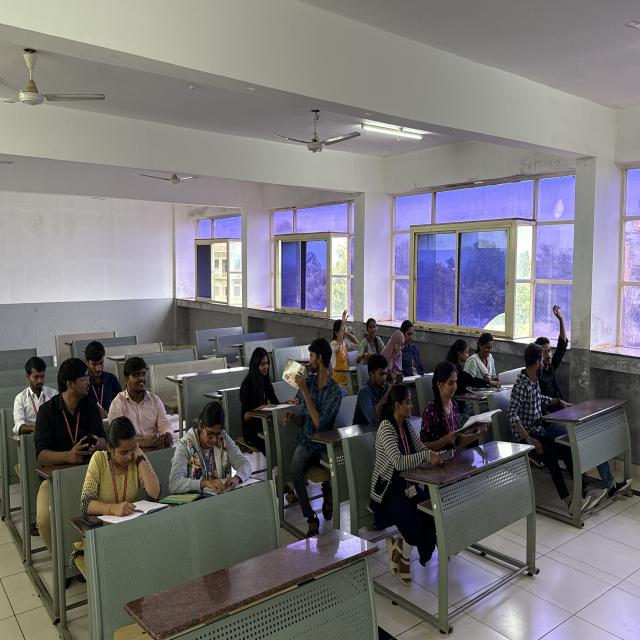Hand Rising: (536, 300, 577, 399), (330, 306, 360, 365)
Reading: (85, 418, 166, 525), (169, 400, 253, 492), (417, 362, 498, 446), (238, 343, 299, 422), (471, 328, 515, 392)
Using Phone: (369, 382, 457, 490), (31, 351, 112, 457), (356, 349, 405, 418)
Writing: (78, 334, 126, 420)
